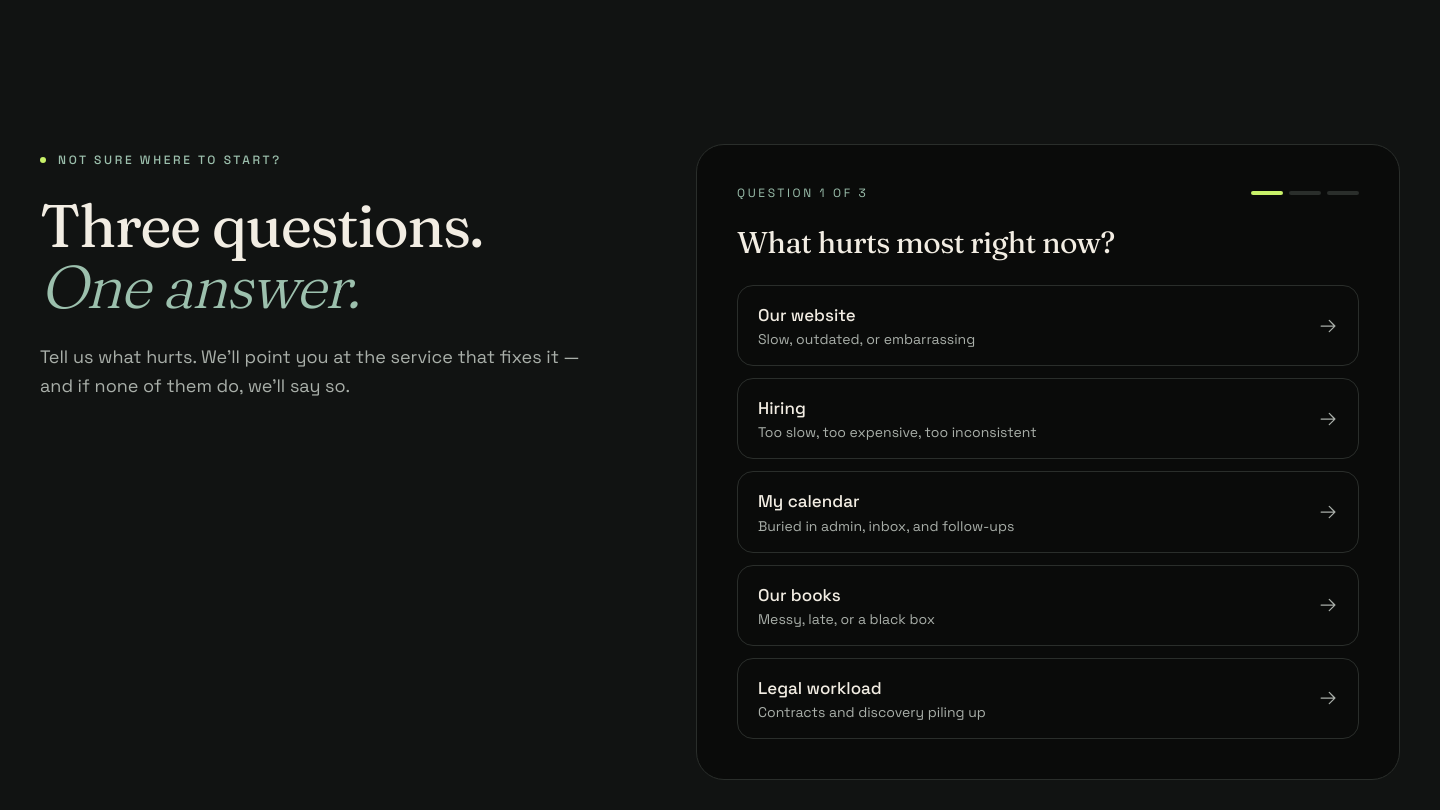
Scenario: ServiceFinderQuiz › walks three questions and recommends virtual assistance
Expected: the text "Question 1 of 3" is shown, [737,185,868,201]
Click the button "My calendar Buried in admin, inbox, and follow-ups": (809, 501) [737,471,1359,553]
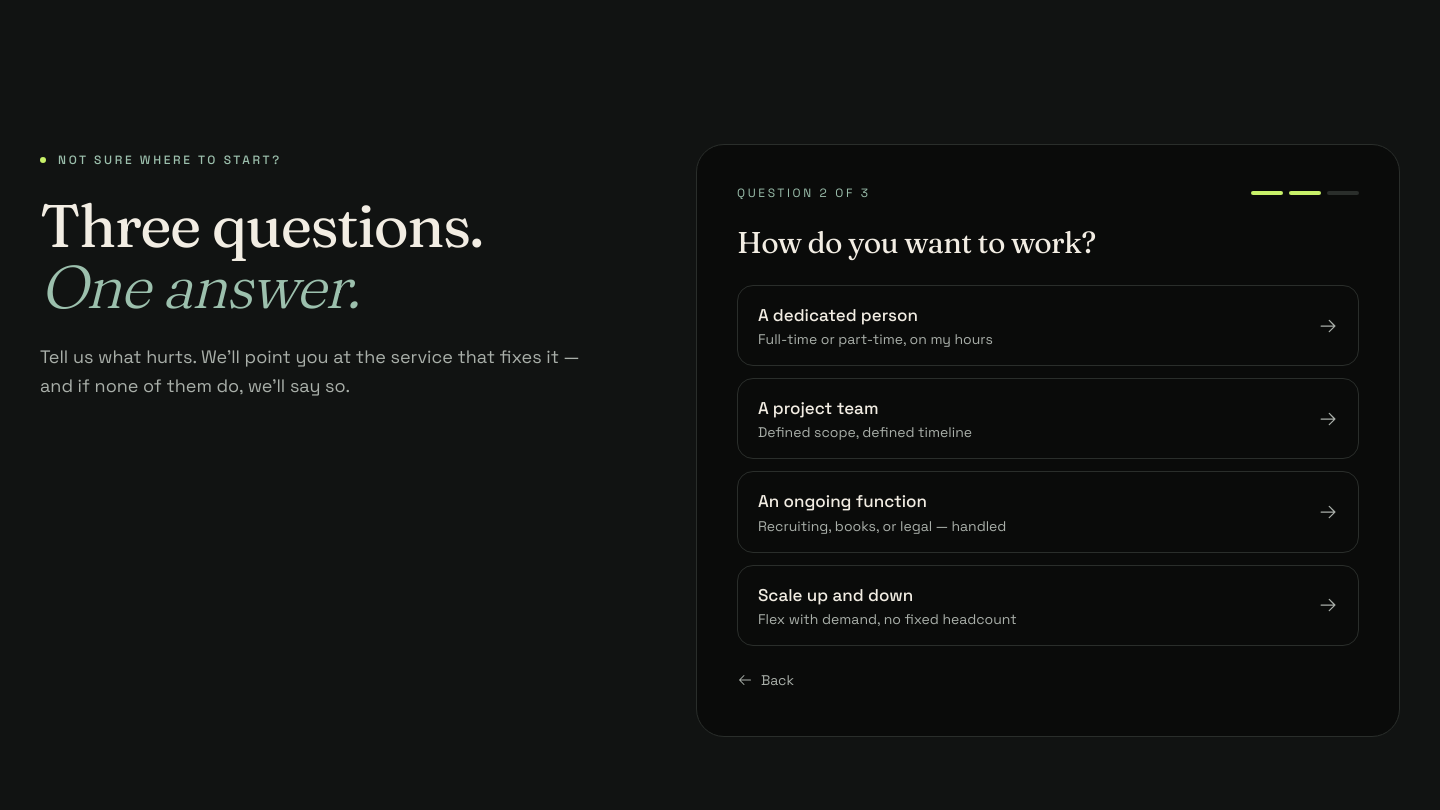
Now the text "Question 2 of 3" is shown, box [737,185,871,201]
Click the button "A dedicated person Full-time or part-time, on my hours": (838, 315) [737,285,1359,366]
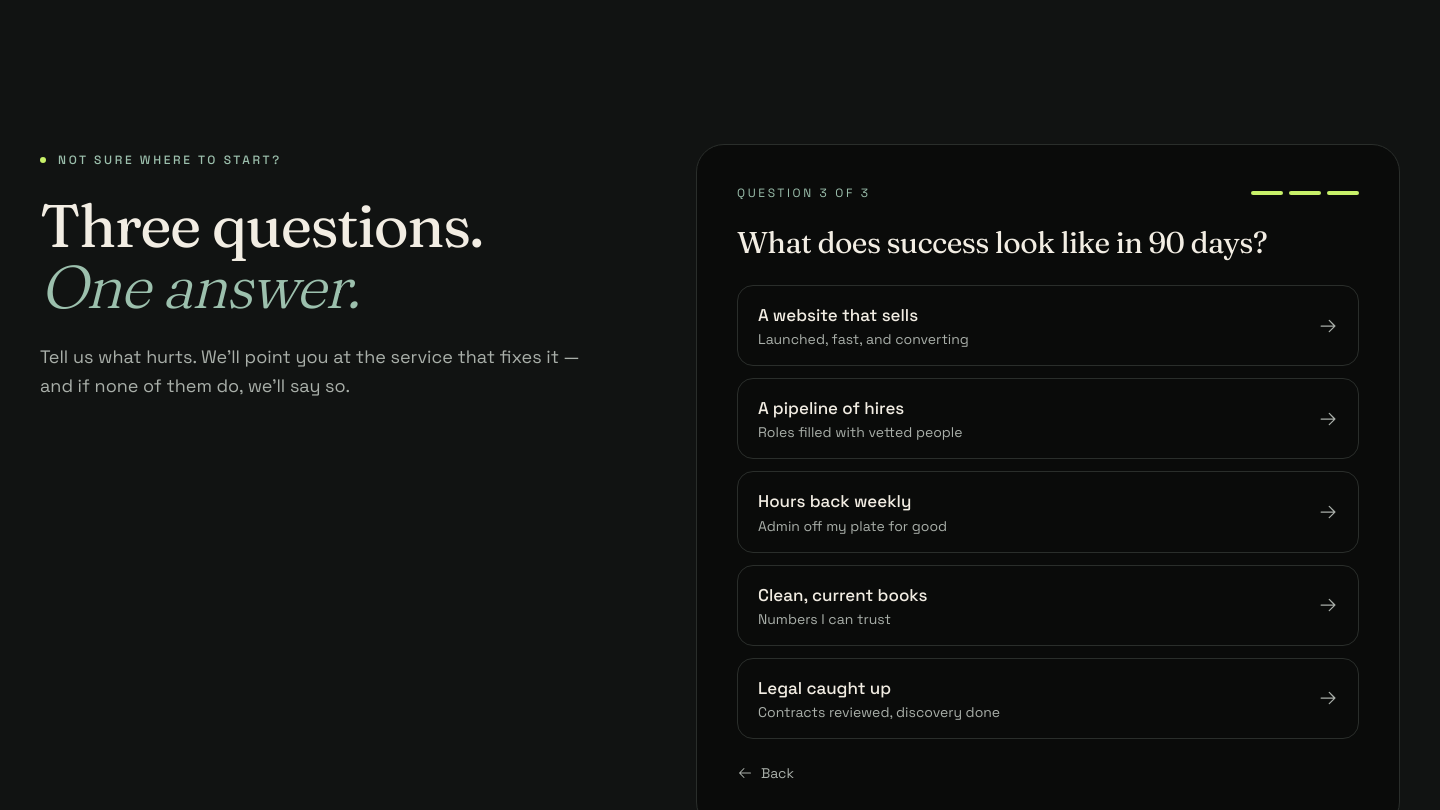
Now the text "Question 3 of 3" is shown, box [737,185,871,201]
Click the button "Hours back weekly Admin off my plate for good": (835, 501) [737,471,1359,553]
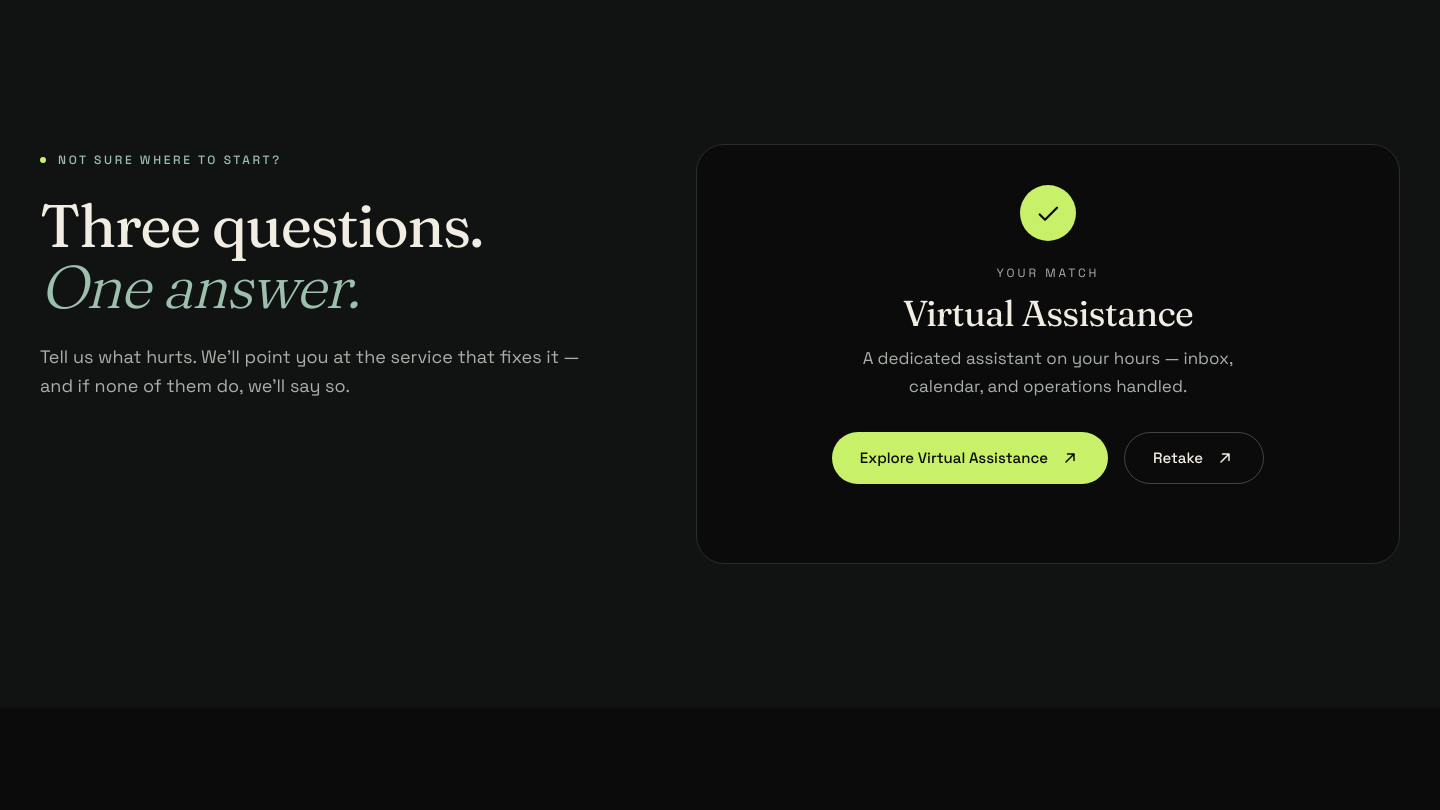
Now the text "Your match" is shown, box [996,265,1100,281]
Now the heading "Virtual Assistance" is shown, box [903,291,1193,335]
